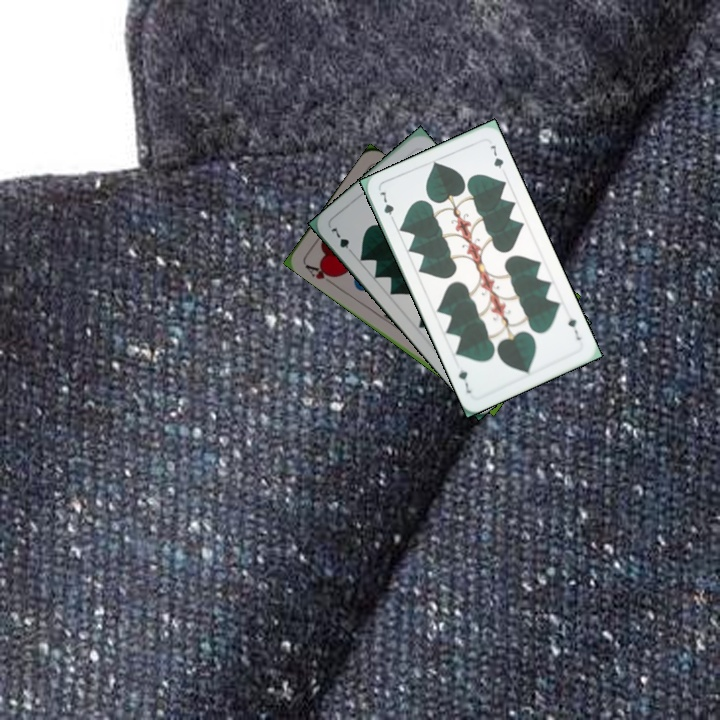G7: (327, 223, 357, 258), (376, 186, 398, 226), (564, 314, 583, 343)
HA: (301, 259, 340, 287)
